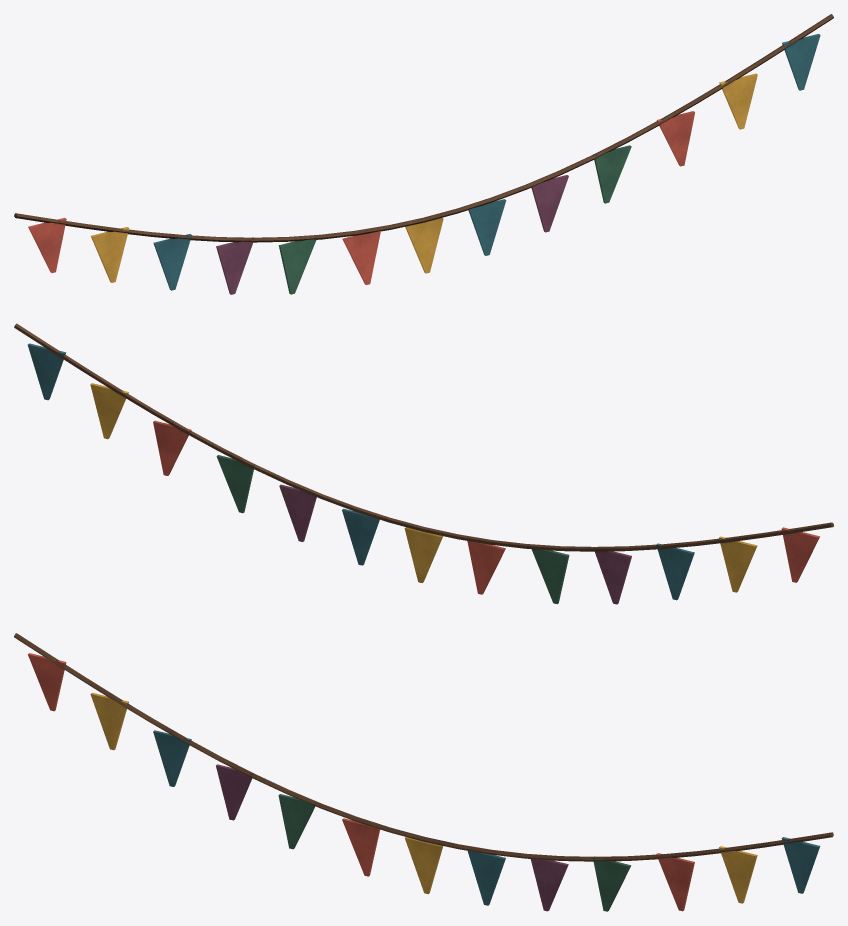
The model's file is bunting.glb.
3 renders of one model, top to bottom at view 1: azimuth 30°, elevation 25°; view 2: azimuth 150°, elevation 25°; view 3: azimuth 330°, elevation 25°, orthographic.
Visible parts, largest first — view 1: Bunting; view 2: Bunting; view 3: Bunting.
Boxes of the visible parts, box(x1,y1,x2,y2) form: Bunting: box(14, 14, 833, 294); Bunting: box(14, 323, 833, 604); Bunting: box(14, 633, 833, 911).
Bounding box in the file's own units: 6.41 × 1.2 × 0.0326.
1 material, 1 textured.
